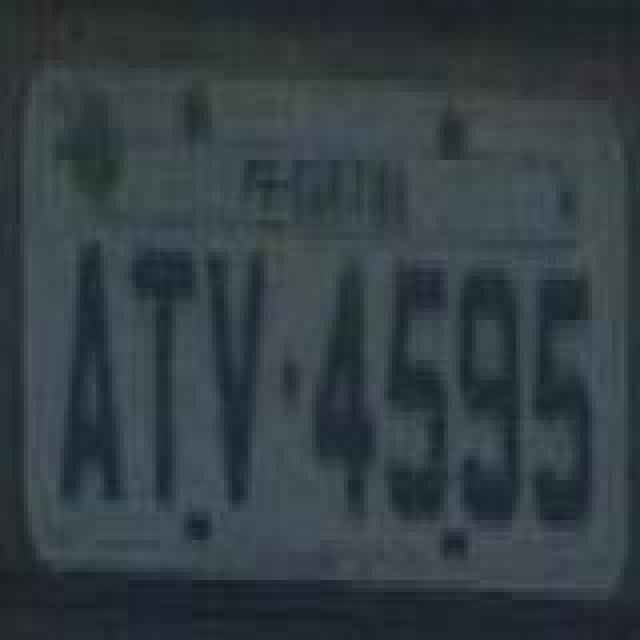4: (310, 248, 378, 520)
5: (382, 256, 450, 528), (528, 268, 592, 540)
9: (454, 260, 522, 532)
A: (58, 240, 126, 512)
T: (126, 240, 194, 512)
V: (202, 244, 270, 516)
